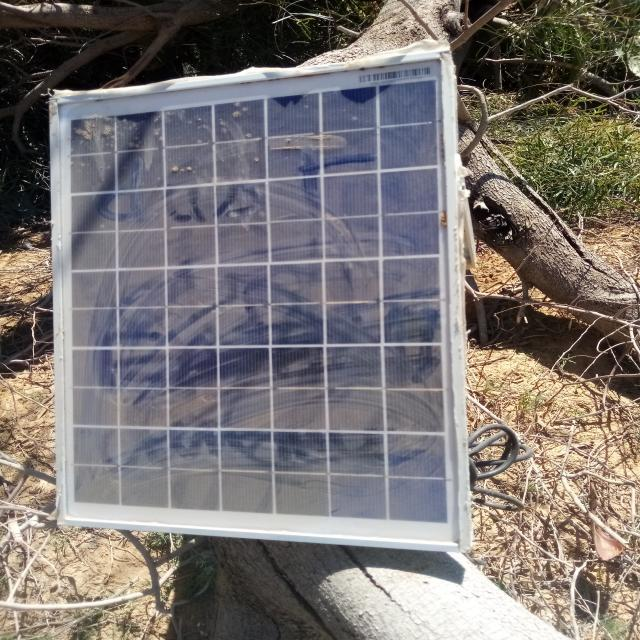faulty: (53, 55, 464, 546)
